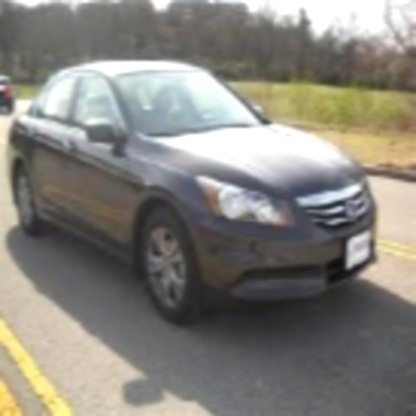Vehicle: (6, 62, 380, 330)
